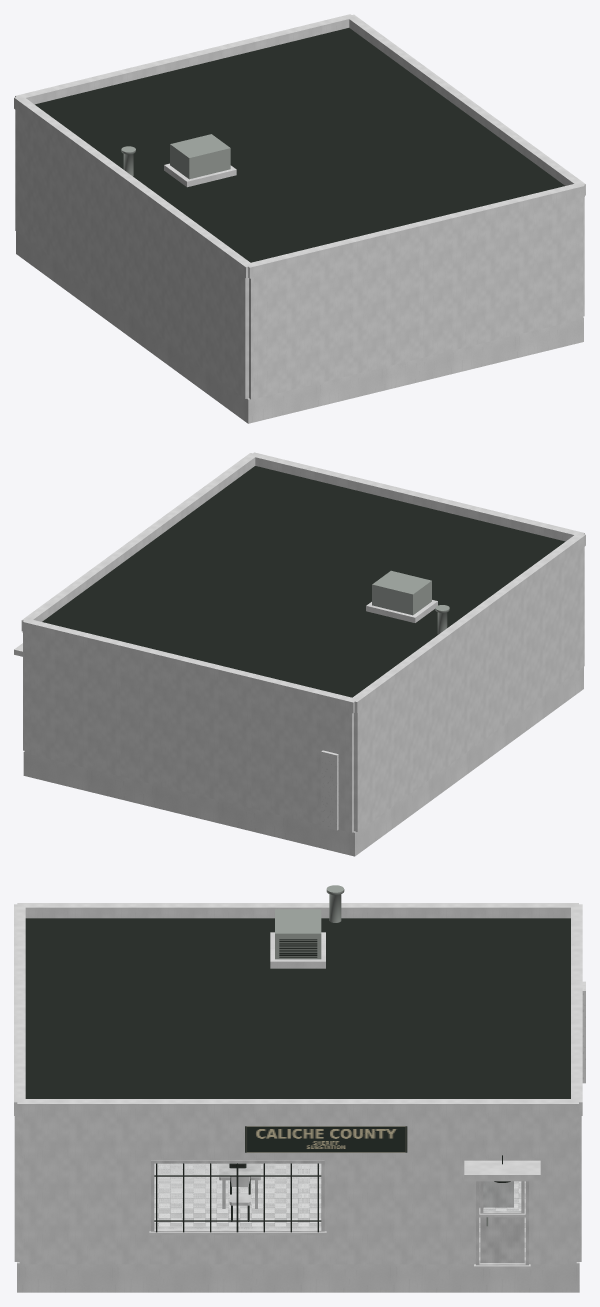
Rendered from Sheriff.glb.
3 renders of one model, top to bottom at view 1: azimuth 30°, elevation 25°; view 2: azimuth 150°, elevation 25°; view 3: azimuth 270°, elevation 25°, orthographic. The views are drawn at different scales.
Visible parts, largest first — view 1: SM_Town_Sheriff_Shell; view 2: SM_Town_Sheriff_Shell, SM_Town_Sheriff_Interior; view 3: SM_Town_Sheriff_Shell, SM_Town_Sheriff_Interior.
Part boxes in pixels (bbox=[...]): SM_Town_Sheriff_Shell: bbox=[14, 14, 585, 423]; SM_Town_Sheriff_Shell: bbox=[14, 452, 585, 856]; SM_Town_Sheriff_Interior: bbox=[321, 750, 338, 830]; SM_Town_Sheriff_Shell: bbox=[14, 885, 582, 1292]; SM_Town_Sheriff_Interior: bbox=[154, 981, 585, 1260].
Size of the model in its own units: 10.96 by 5.07 by 12.32.
19 materials, 10 textured.
